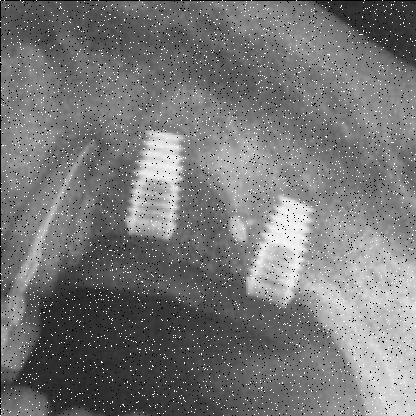Bicon: (242, 188, 318, 313), (125, 123, 188, 250)
